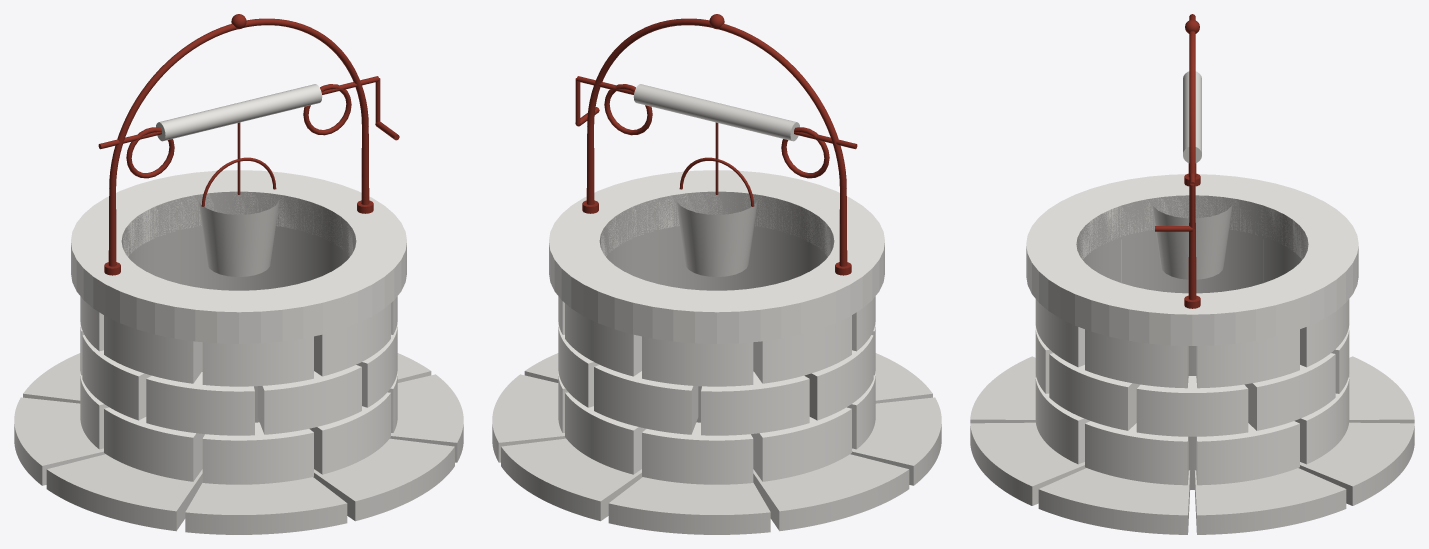
File: PUITS.glb
3 renders of one model, left to right at view 1: azimuth 30°, elevation 25°; view 2: azimuth 150°, elevation 25°; view 3: azimuth 270°, elevation 25°, orthographic.
Parts seen in each view (by area): view 1: rim, lining, paver-5, paver-4, paver-6, block-0-5, block-1-4, block-1-5, paver-3, block-0-4, block-2-5, bucket (+17 smaller); view 2: rim, lining, paver-2, paver-3, paver-1, block-0-2, block-1-2, block-1-1, paver-4, block-0-3, block-2-2, bucket (+17 smaller); view 3: rim, lining, paver-0, paver-7, paver-1, paver-6, block-1-7, block-0-0, block-0-7, block-2-0, block-2-7, block-1-0 (+13 smaller).
Boxes of the visible parts, x1,y1,x2,y2 form: rim: [71, 170, 406, 343]; lining: [121, 191, 356, 422]; paver-5: [185, 477, 347, 534]; paver-4: [46, 454, 202, 531]; paver-6: [313, 438, 454, 521]; block-0-5: [202, 422, 313, 484]; block-1-4: [146, 371, 254, 435]; block-1-5: [257, 365, 361, 434]; paver-3: [14, 397, 105, 485]; block-0-4: [104, 407, 204, 481]; block-2-5: [202, 336, 313, 386]; bucket: [198, 200, 279, 276]; rim: [549, 170, 884, 343]; lining: [599, 191, 834, 422]; paver-2: [608, 477, 770, 534]; paver-3: [753, 454, 909, 531]; paver-1: [501, 438, 642, 521]; block-0-2: [642, 422, 753, 484]; block-1-2: [701, 371, 809, 435]; block-1-1: [594, 365, 698, 434]; paver-4: [850, 397, 941, 485]; block-0-3: [751, 407, 851, 481]; block-2-2: [642, 336, 753, 386]; bucket: [676, 200, 757, 276]; rim: [1026, 174, 1358, 345]; lining: [1076, 195, 1308, 489]; paver-0: [1194, 468, 1346, 534]; paver-7: [1038, 468, 1190, 534]; paver-1: [1299, 422, 1414, 505]; paver-6: [970, 422, 1085, 505]; block-1-7: [1136, 376, 1248, 436]; block-0-0: [1196, 421, 1299, 485]; block-0-7: [1085, 421, 1188, 485]; block-2-0: [1196, 329, 1299, 388]; block-2-7: [1085, 329, 1188, 388]; block-1-0: [1244, 353, 1335, 430].
Size of the model in its own units: 1.7 by 1.78 by 1.7.
